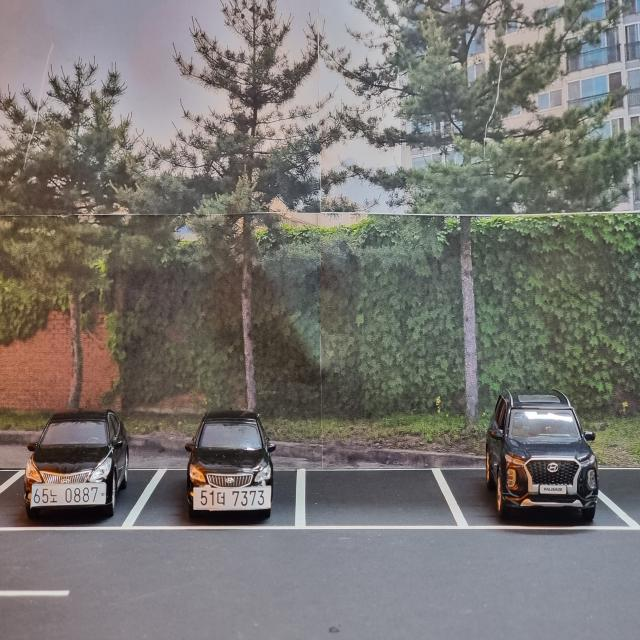empty: (296, 464, 456, 529)
occupied: (448, 371, 635, 529), (137, 399, 298, 527), (14, 404, 134, 530)
